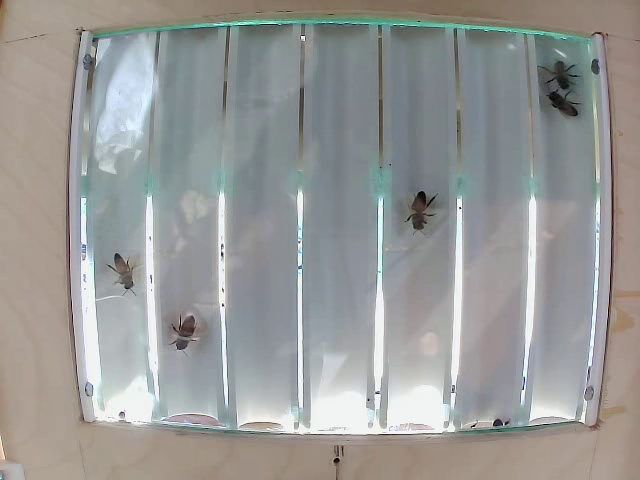bee: (401, 182, 437, 226), (113, 259, 155, 295), (168, 320, 205, 348), (537, 94, 569, 123), (547, 58, 569, 87)
